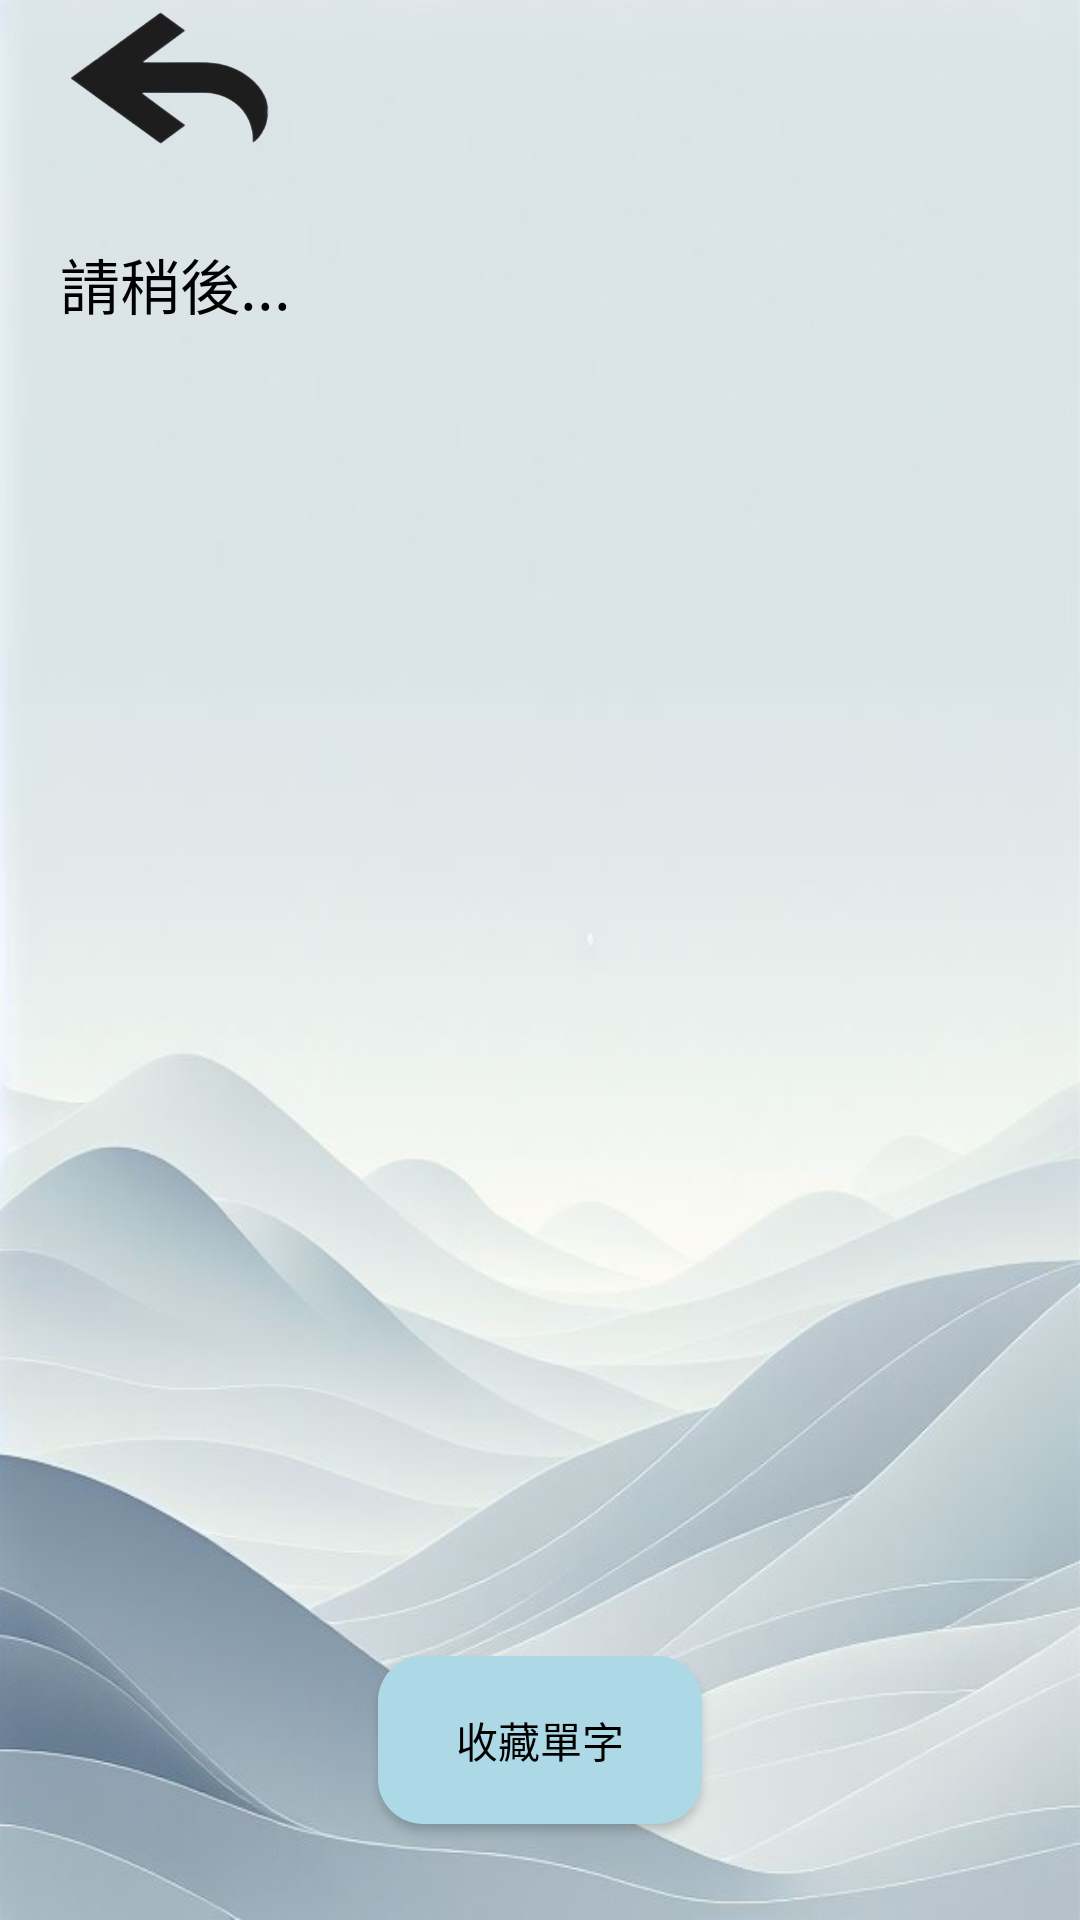

Named icons in this screenshot (1080 x 1920) and their bounding boxes, (x1, y1, x2, y2):
backbtn: (71, 13, 268, 144)
